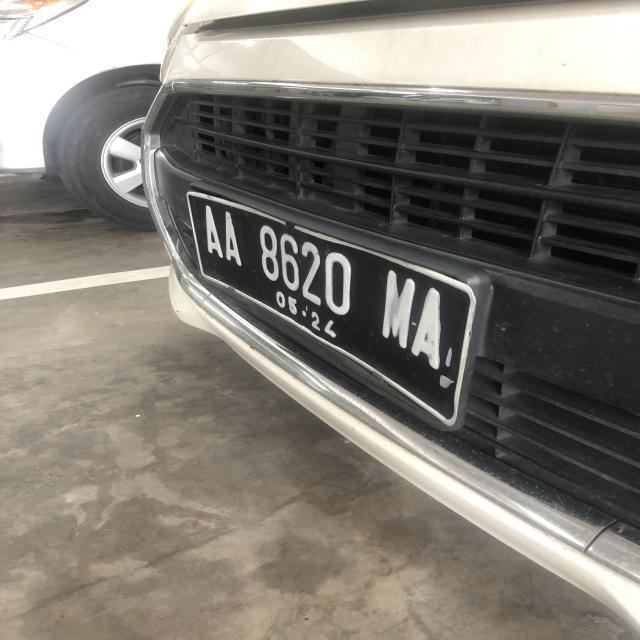0: (322, 252, 352, 316)
2: (302, 239, 322, 309)
6: (278, 230, 300, 290)
8: (258, 224, 278, 282)
A: (410, 288, 450, 372), (220, 208, 247, 266), (199, 204, 223, 260)
M: (380, 268, 417, 348)
